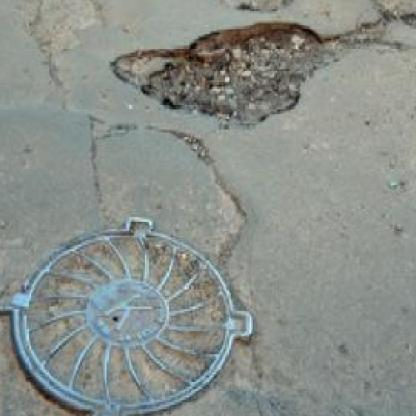pothole: (123, 30, 320, 121), (374, 12, 416, 55), (206, 0, 302, 14)
